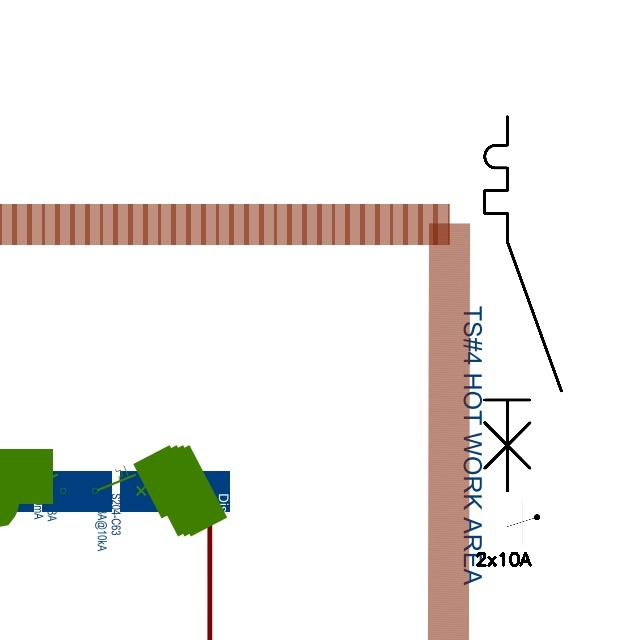interruptor_termomagnetico: (475, 107, 571, 500)
